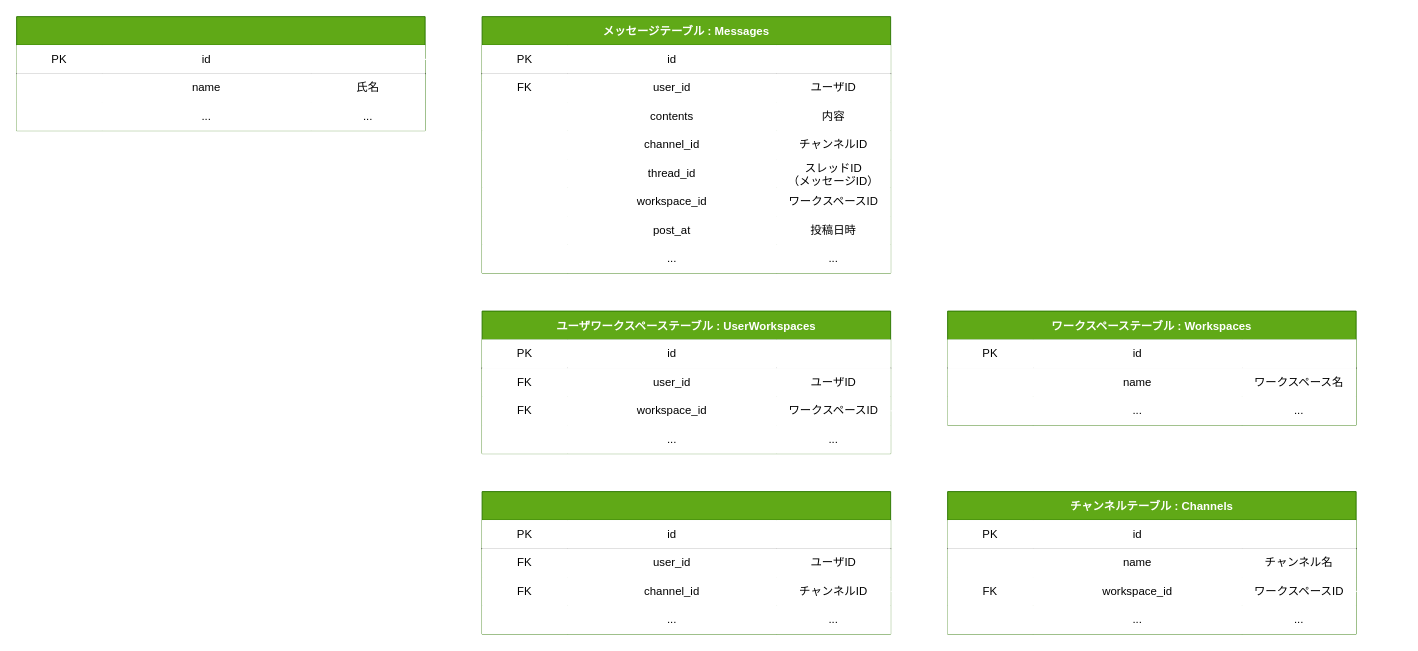
This 1418x651 diagram has some shape labels left out. Here are the shapes that lost their labels. From the top down, the box of each, then its label:
(16, 16, 425, 131): ユーザテーブル : Users
(481, 491, 891, 634): ユーザチャンネルテーブル : UserChannels
